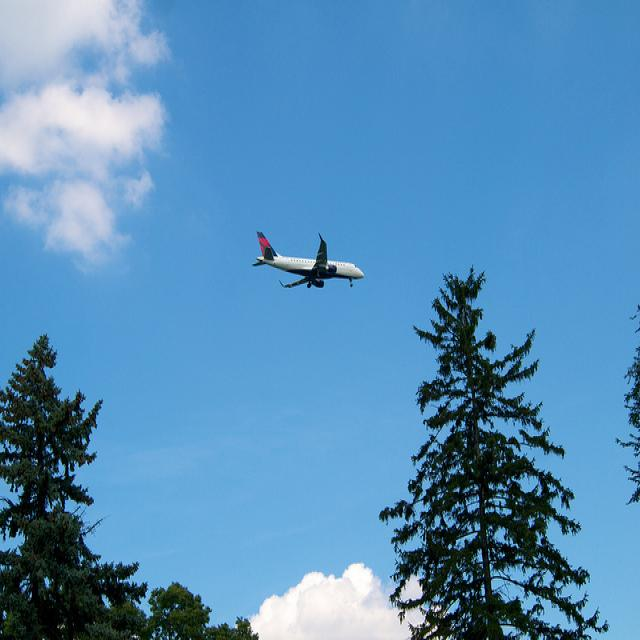airplane: (250, 222, 368, 290)
